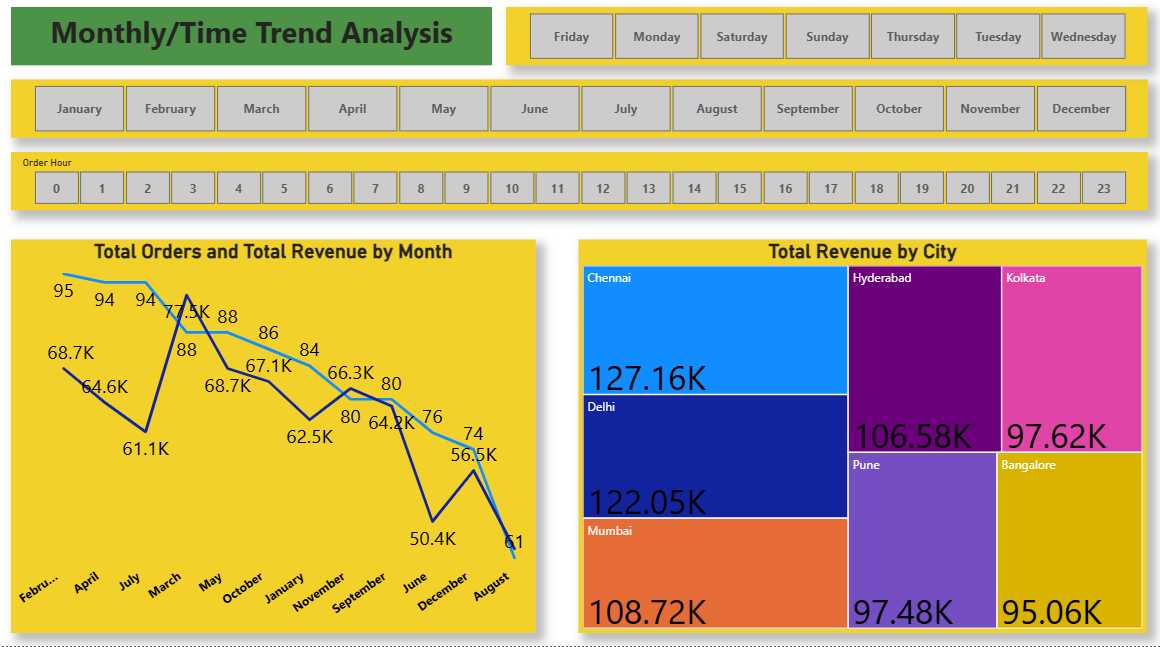

The dashboard page shown, as its layout file describes it:
{"tool":"powerbi","page":{"name":"Monthly/Time Trend Analysis","canvas":[1280,720],"ordinal":4},"visuals":[{"type":"textbox","box":[16,16,528,64],"z":0},{"type":"slicer","fields":{"Values":["new_update_blinkit_dataset.Order DateTime.Variation.Date Hierarchy.Month"]},"box":[16,96,1248,64],"z":1},{"type":"slicer","fields":{"Values":["new_update_blinkit_dataset.Day"]},"box":[560,16,704,64],"z":2},{"type":"slicer","fields":{"Values":["new_update_blinkit_dataset.Order Hour"]},"box":[16,176,1248,64],"z":3},{"type":"lineChart","fields":{"Y":["new_update_blinkit_dataset.Total Orders"],"Y2":["new_update_blinkit_dataset.Total Revenue"],"Category":["new_update_blinkit_dataset.Month"]},"box":[16,272,576,432],"z":4},{"type":"treemap","fields":{"Values":["new_update_blinkit_dataset.Total Revenue"],"Group":["new_update_blinkit_dataset.City"]},"box":[640,272,624,432],"z":5}]}

Visuals, with their boxes in screenshot pixels (x1, y1, x2, y2), scaled from the page's 1280x720 canvas onto the 1160x647 screenshot:
textbox: [14,14,493,72]
slicer - new_update_blinkit_dataset.Order DateTime.Variation.Date Hierarchy.Month: [14,86,1146,144]
slicer - new_update_blinkit_dataset.Day: [508,14,1146,72]
slicer - new_update_blinkit_dataset.Order Hour: [14,158,1146,216]
lineChart - new_update_blinkit_dataset.Total Orders x new_update_blinkit_dataset.Total Revenue: [14,244,536,633]
treemap - new_update_blinkit_dataset.Total Revenue x new_update_blinkit_dataset.City: [580,244,1146,633]
